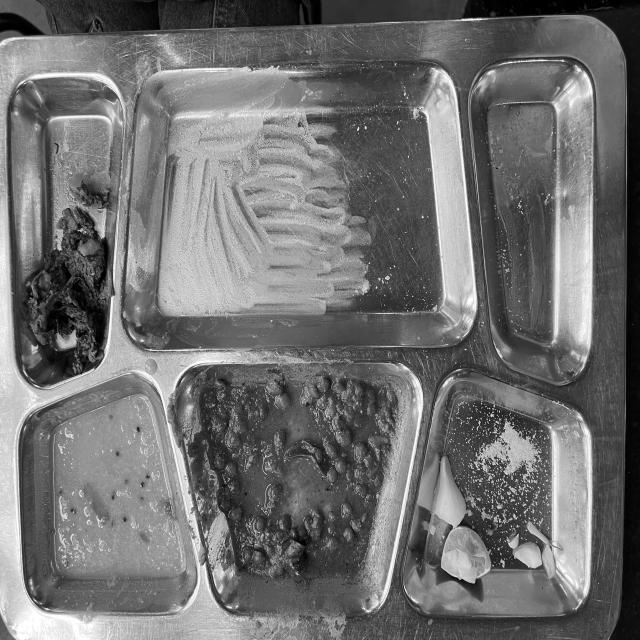20-Food-Left: (13, 55, 602, 621)
